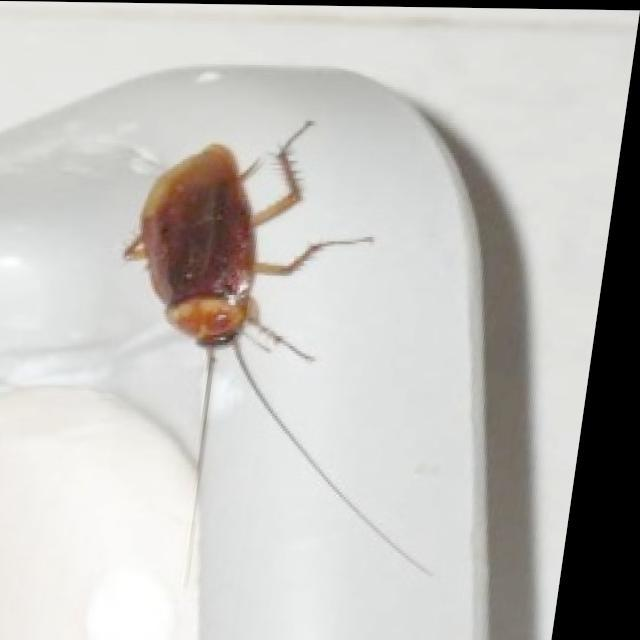cockroach: (118, 116, 434, 586)
